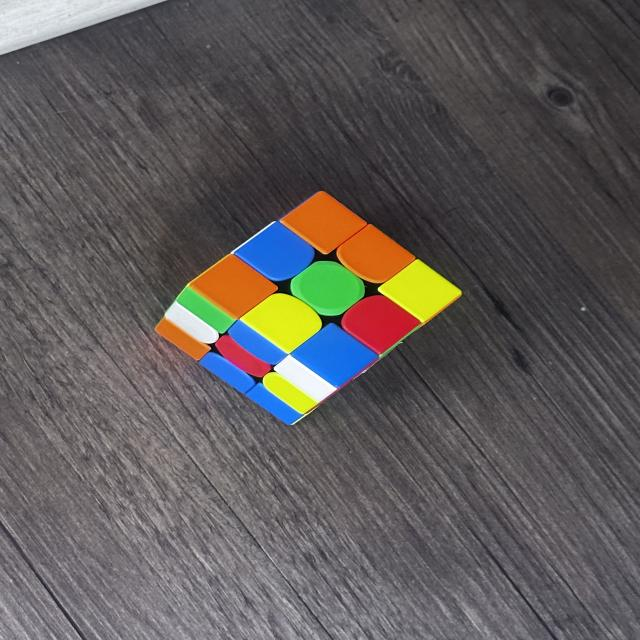sticker: (188, 254, 275, 323), (291, 323, 375, 390), (281, 190, 366, 256), (380, 259, 463, 323), (339, 294, 417, 358), (240, 294, 320, 355), (236, 220, 314, 282), (336, 224, 414, 285), (290, 261, 364, 316)
